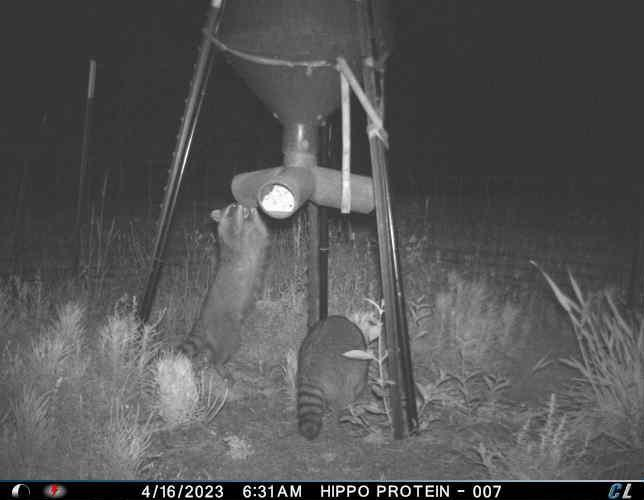Raccoon: (174, 203, 273, 381), (294, 314, 369, 440)
